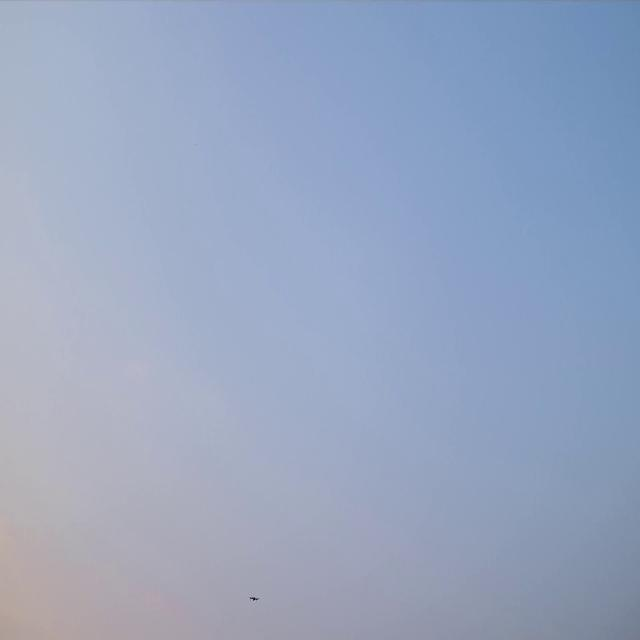UAV: (250, 596, 258, 600)
